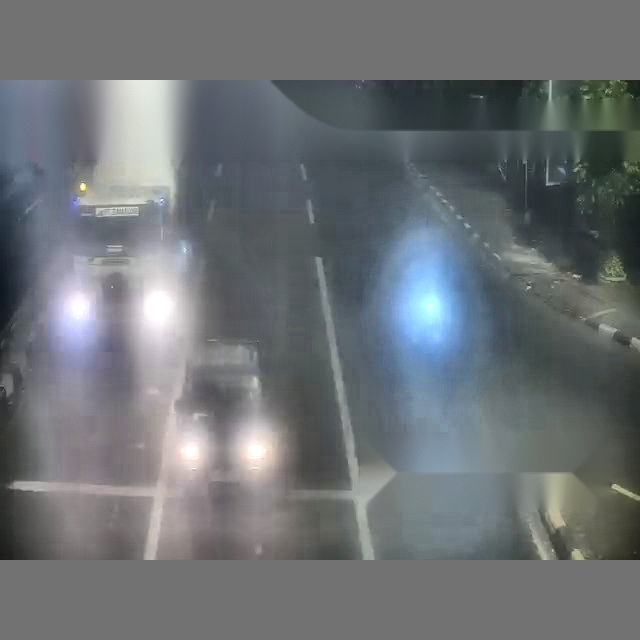Bis: (215, 67, 640, 556)
